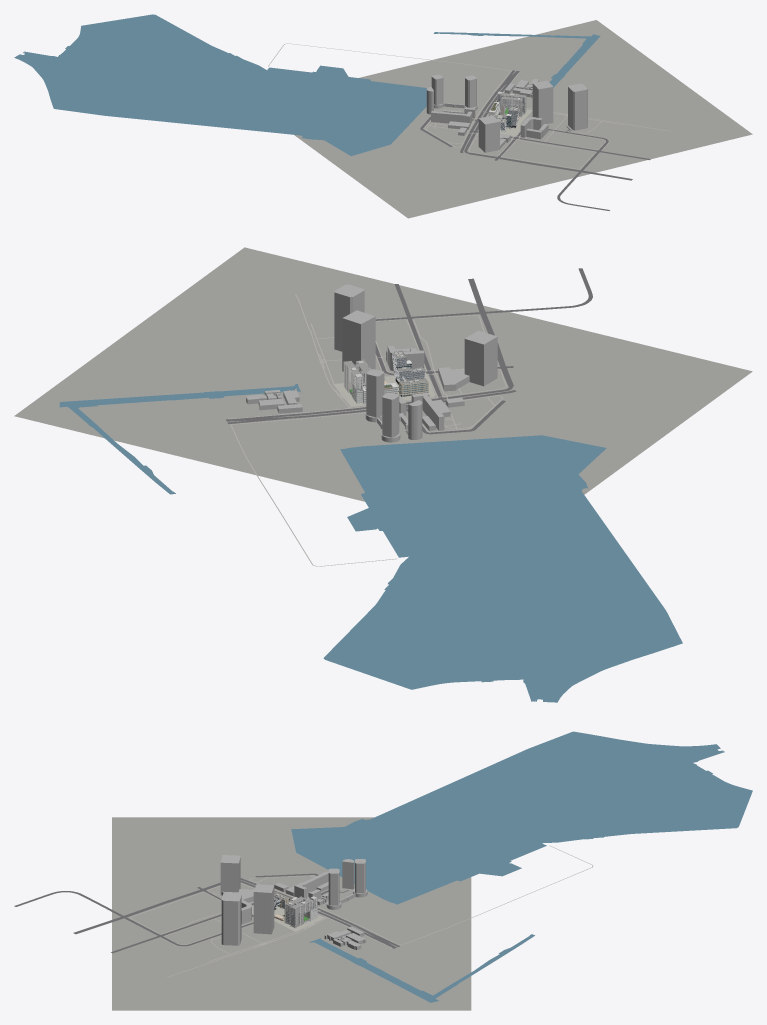
Rendered from campus_exterior.fbx.
3 renders of one model, top to bottom at view 1: azimuth 30°, elevation 25°; view 2: azimuth 150°, elevation 25°; view 3: azimuth 270°, elevation 25°, orthographic. The views are drawn at different scales.
Parts seen in each view (by area): view 1: 地面_L_site.blend, 運河_721243864_L_site.blend, 道路_車道_L_site.blend, 道路_歩道_L_site.blend, 運河_87725065_L_site.blend, 周辺_THE TOYOSU TOWER_102379220_L_site.blend, 周辺_シティタワーズ豊洲_187753906_L_site.blend, 周辺_豊洲IHIビル_102519005_L_site.blend, 研究棟_外観.001, 周辺_豊洲ハイライズ_103379229_L_site.blend, 周辺_キャナルワーフタワーズ East_103379231_L_site.blend; view 2: 地面_L_site.blend, 運河_721243864_L_site.blend, 道路_車道_L_site.blend, 運河_87725065_L_site.blend, 道路_歩道_L_site.blend, 周辺_シティタワーズ豊洲_187753906_L_site.blend, 周辺_豊洲IHIビル_102519005_L_site.blend, 周辺_THE TOYOSU TOWER_102379220_L_site.blend, 周辺_キャナルワーフタワーズ East_103379231_L_site.blend, 周辺_キャナルワーフタワーズ West_103379242_L_site.blend; view 3: 地面_L_site.blend, 運河_721243864_L_site.blend, 道路_車道_L_site.blend, 道路_歩道_L_site.blend, 運河_87725065_L_site.blend, 周辺_THE TOYOSU TOWER_102379220_L_site.blend, 周辺_シティタワーズ豊洲_187753906_L_site.blend, 周辺_豊洲IHIビル_102519005_L_site.blend, 研究棟_外観.001, 周辺_豊洲ハイライズ_103379229_L_site.blend.
Part boxes in pixels (bbox=[...]): 地面_L_site.blend: bbox=[294, 20, 752, 218]; 運河_721243864_L_site.blend: bbox=[14, 14, 426, 156]; 道路_車道_L_site.blend: bbox=[420, 70, 650, 210]; 道路_歩道_L_site.blend: bbox=[268, 43, 670, 169]; 運河_87725065_L_site.blend: bbox=[433, 32, 600, 87]; 周辺_THE TOYOSU TOWER_102379220_L_site.blend: bbox=[568, 83, 587, 130]; 周辺_シティタワーズ豊洲_187753906_L_site.blend: bbox=[532, 80, 553, 124]; 周辺_豊洲IHIビル_102519005_L_site.blend: bbox=[478, 115, 499, 152]; 研究棟_外観.001: bbox=[497, 91, 526, 116]; 周辺_豊洲ハイライズ_103379229_L_site.blend: bbox=[431, 111, 472, 124]; 周辺_キャナルワーフタワーズ East_103379231_L_site.blend: bbox=[465, 75, 476, 107]; 地面_L_site.blend: bbox=[14, 247, 752, 501]; 運河_721243864_L_site.blend: bbox=[323, 435, 682, 702]; 道路_車道_L_site.blend: bbox=[226, 268, 592, 434]; 運河_87725065_L_site.blend: bbox=[59, 384, 300, 494]; 道路_歩道_L_site.blend: bbox=[228, 294, 506, 566]; 周辺_シティタワーズ豊洲_187753906_L_site.blend: bbox=[342, 310, 375, 371]; 周辺_豊洲IHIビル_102519005_L_site.blend: bbox=[464, 330, 497, 386]; 周辺_THE TOYOSU TOWER_102379220_L_site.blend: bbox=[334, 284, 364, 351]; 周辺_キャナルワーフタワーズ East_103379231_L_site.blend: bbox=[366, 369, 384, 417]; 周辺_キャナルワーフタワーズ West_103379242_L_site.blend: bbox=[382, 392, 399, 437]; 地面_L_site.blend: bbox=[112, 817, 471, 1010]; 運河_721243864_L_site.blend: bbox=[291, 731, 752, 904]; 道路_車道_L_site.blend: bbox=[14, 873, 399, 953]; 道路_歩道_L_site.blend: bbox=[130, 845, 593, 977]; 運河_87725065_L_site.blend: bbox=[309, 934, 534, 1002]; 周辺_THE TOYOSU TOWER_102379220_L_site.blend: bbox=[221, 893, 241, 945]; 周辺_シティタワーズ豊洲_187753906_L_site.blend: bbox=[253, 884, 274, 934]; 周辺_豊洲IHIビル_102519005_L_site.blend: bbox=[220, 855, 240, 895]; 研究棟_外観.001: bbox=[282, 896, 317, 927]; 周辺_豊洲ハイライズ_103379229_L_site.blend: bbox=[294, 871, 328, 898].
Size of the model in its own units: 2023 by 150 by 2264.
